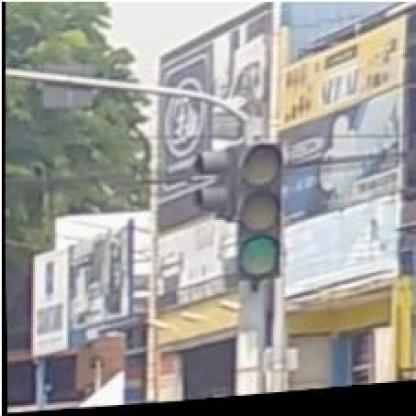green: (232, 143, 278, 286)
